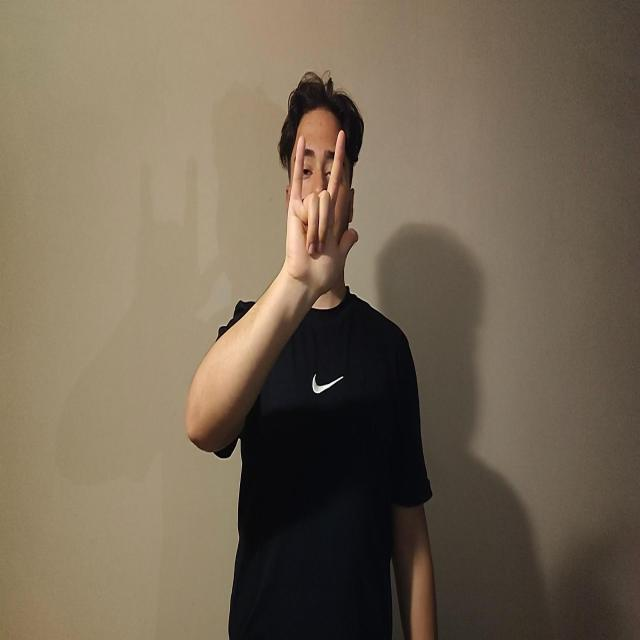iloveyou: (284, 128, 359, 297)
